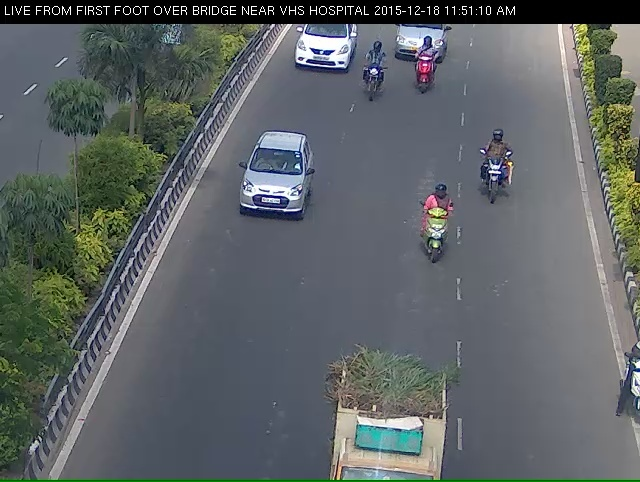Car: (330, 377, 449, 479), (237, 142, 307, 239), (293, 24, 350, 83), (394, 25, 450, 66)
Person: (418, 202, 460, 282), (475, 135, 515, 211), (359, 51, 384, 112), (413, 47, 438, 100)
